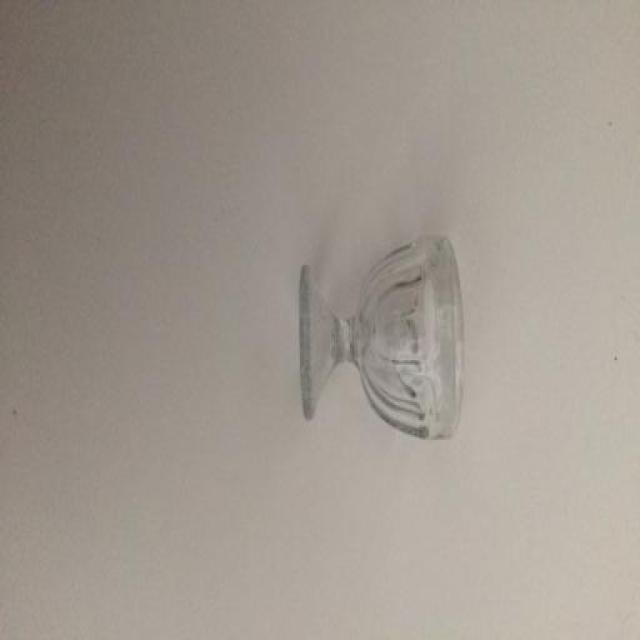glass: (298, 235, 464, 440)
